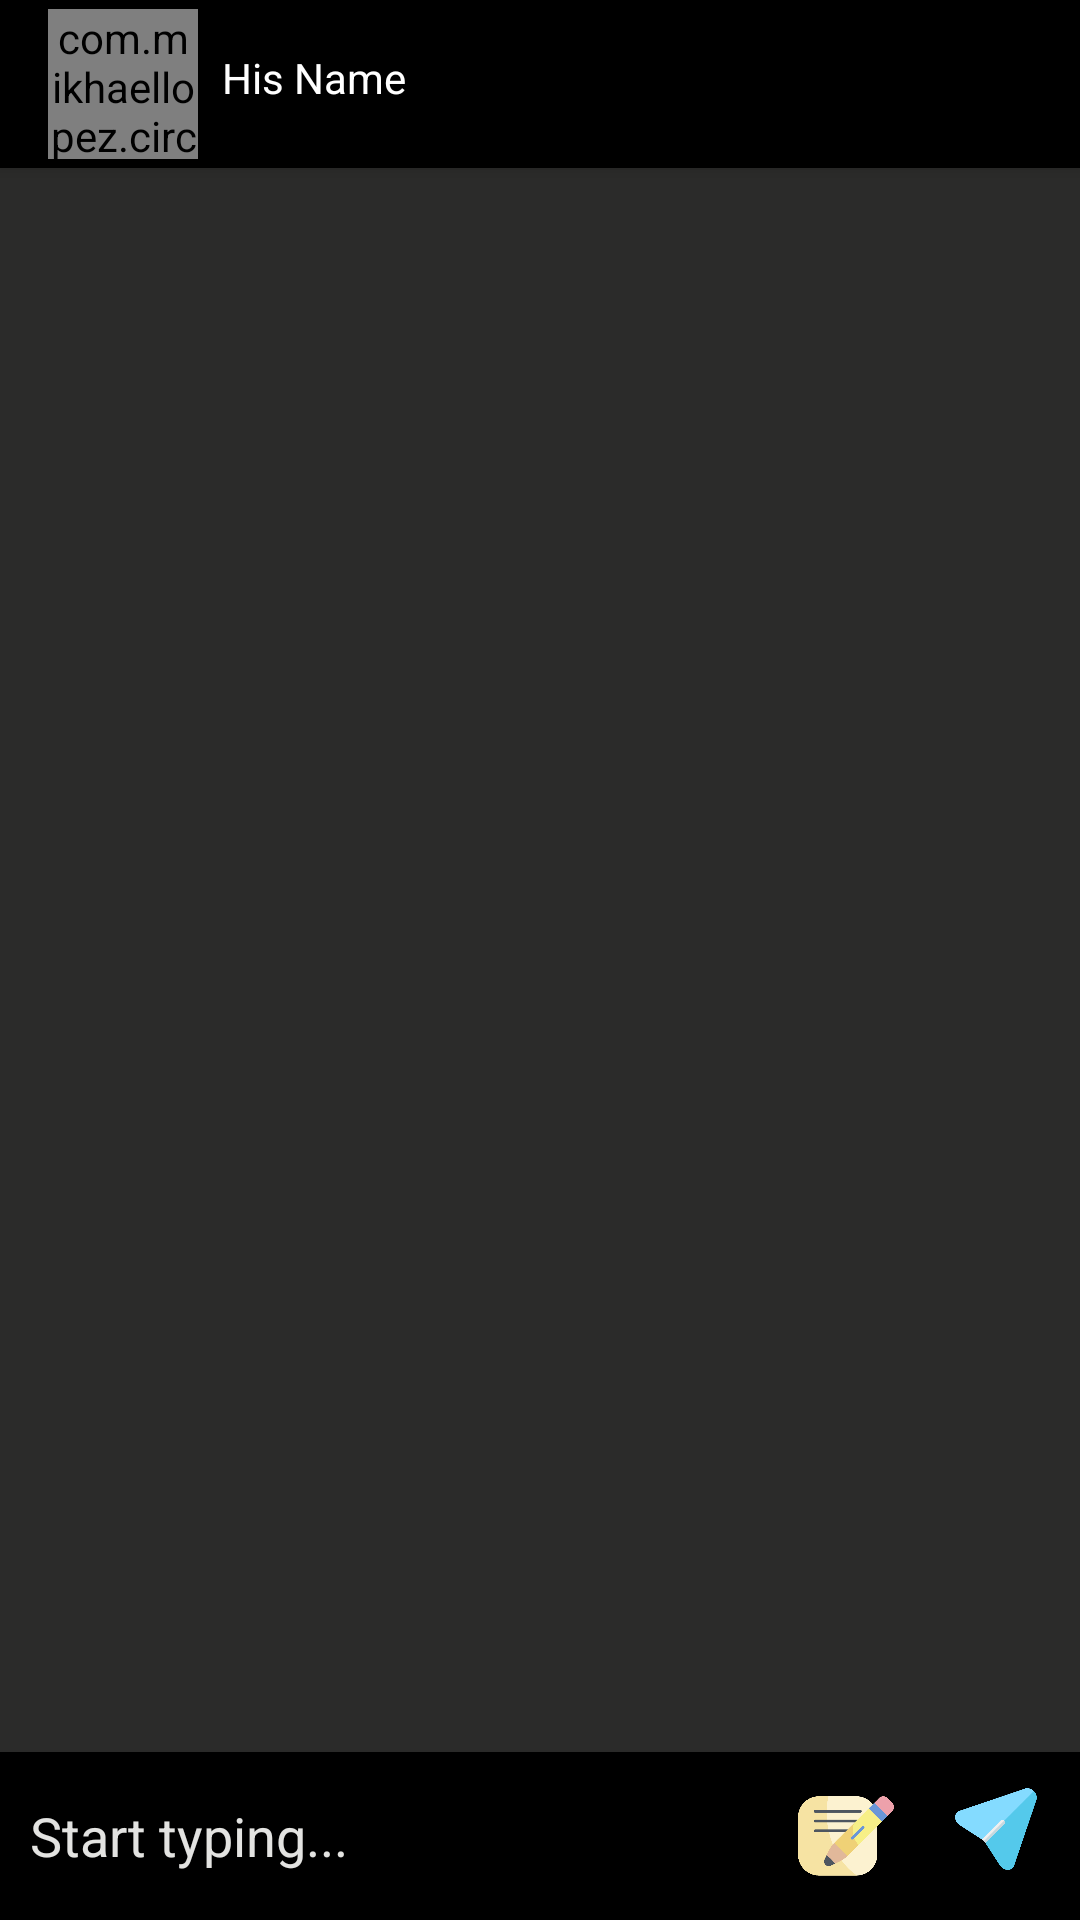

Where icons sit on this 1080px x 1920px app screen, as (x1, y1, x2, y2):
send: (955, 1788, 1037, 1870)
